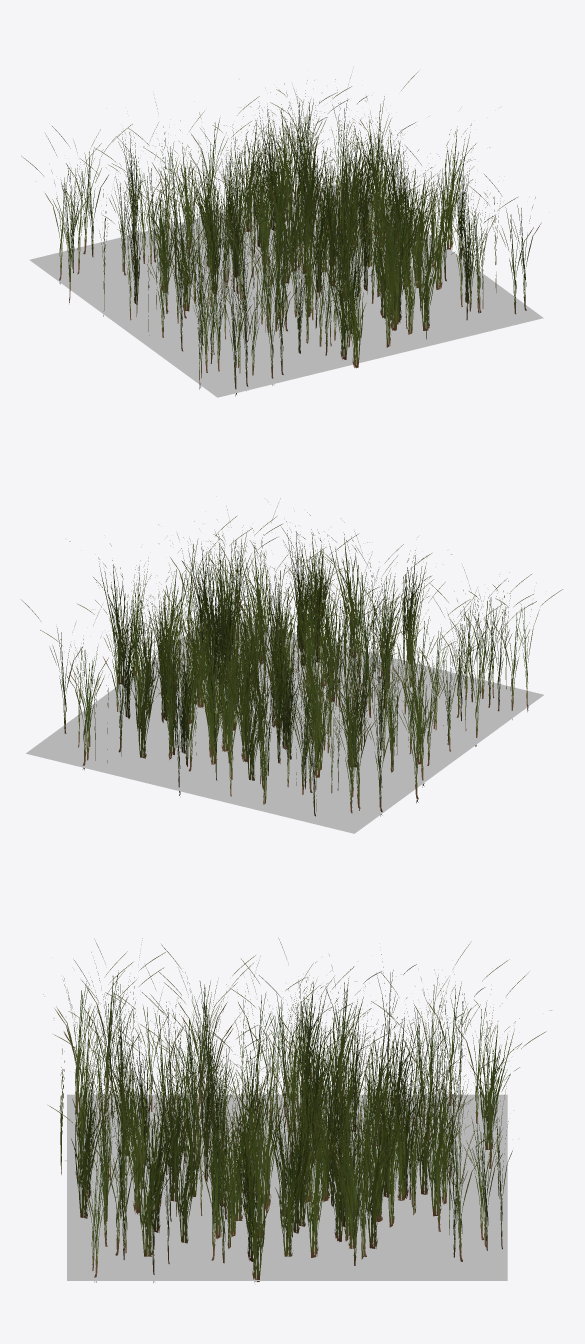
Rendered from grass_2.fbx.
The picture shows the model from 3 angles, top to bottom: view 1: azimuth 30°, elevation 25°; view 2: azimuth 150°, elevation 25°; view 3: azimuth 270°, elevation 25°; orthographic projection. The views are drawn at different scales.
Visible parts, largest first — view 1: Plane.009, Plane.007; view 2: Plane.009, Plane.007; view 3: Plane.009, Plane.007.
Part boxes in pixels (left/top/right/bottom): Plane.009: left=21, top=71, right=541, bottom=396; Plane.007: left=29, top=181, right=543, bottom=397; Plane.009: left=22, top=498, right=562, bottom=816; Plane.007: left=26, top=615, right=543, bottom=833; Plane.009: left=43, top=938, right=551, bottom=1282; Plane.007: left=67, top=1094, right=507, bottom=1280.
Bounding box in the file's own units: 136 × 50.69 × 126.
